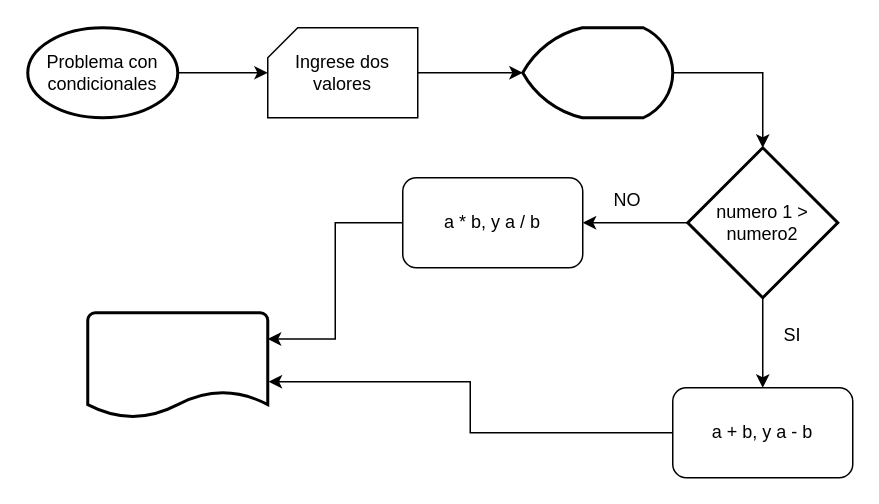
The diagram is 879 pixels wide and 504 high, and some of its shapes have lost their labels. The shapes that lost their labels are listed below. From the top down, each one's centre as x and y in pixels, then its label:
(597,72): Visualizo datos
(177,364): Muestro en pantalla resultados
